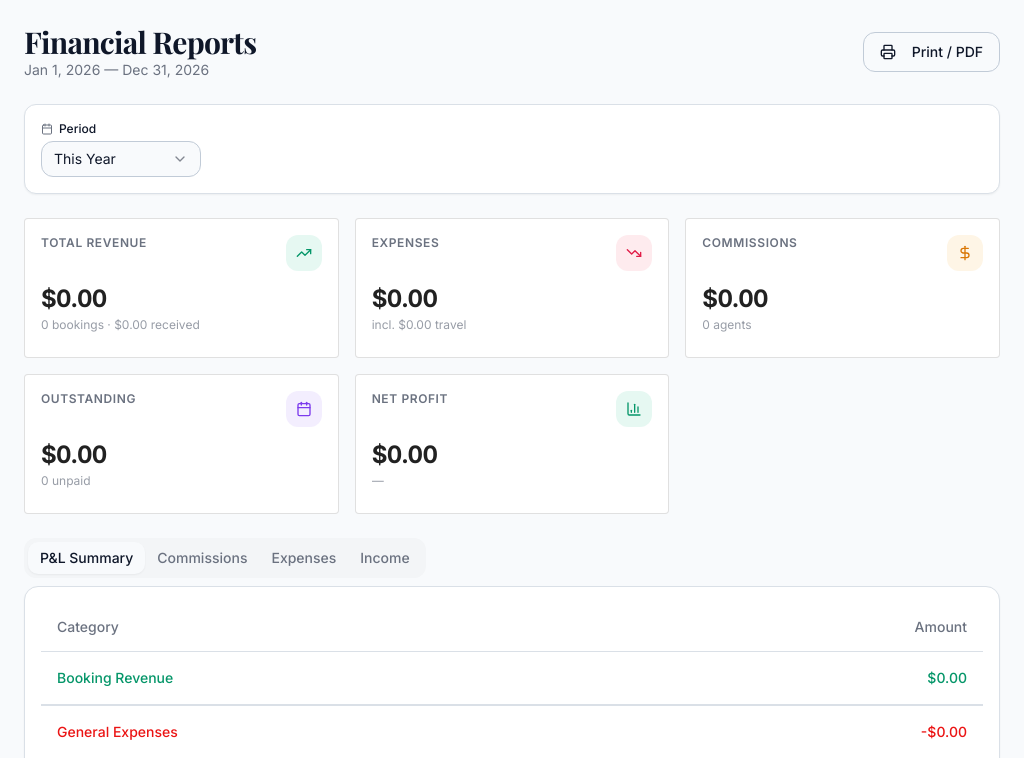
Test: Finance › adds a new general expense
The image size is (1024, 758).
Later steps or results of the test are not shown.
Expected: the text "Total Revenue" is shown, [41,235,147,251]
Press the mouse on the tab "Expenses" at (304, 558), box [259,542,348,574]
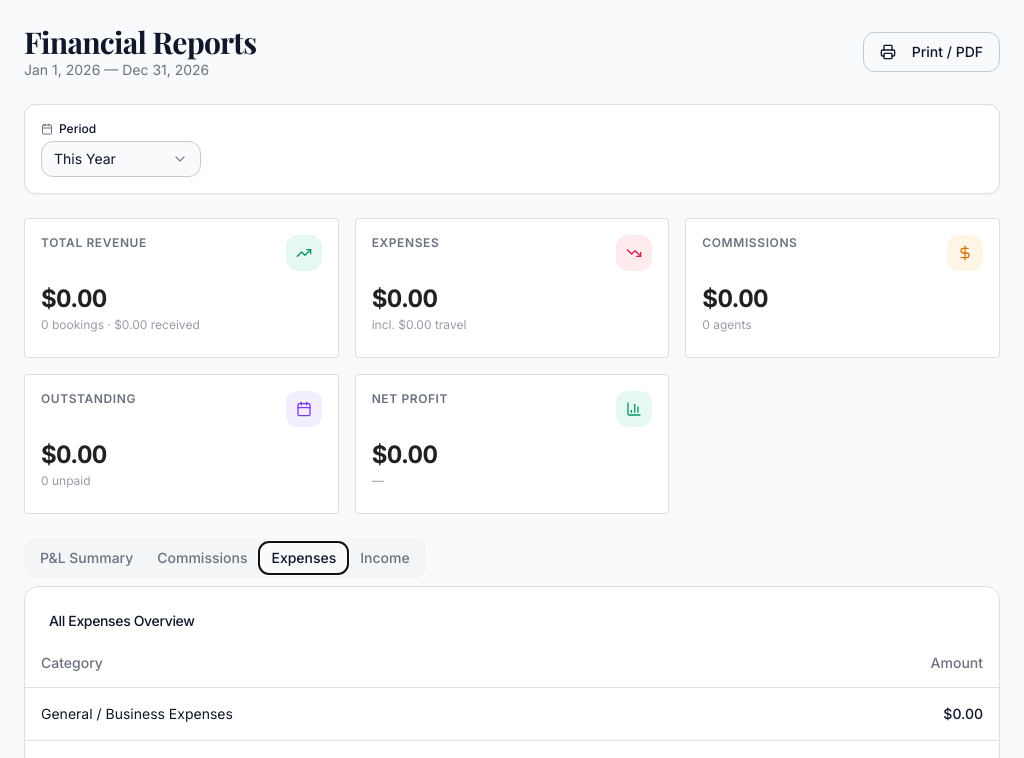
Click the tab "Expenses".
click(304, 558)  # box [259,542,348,574]
(page scrolled)
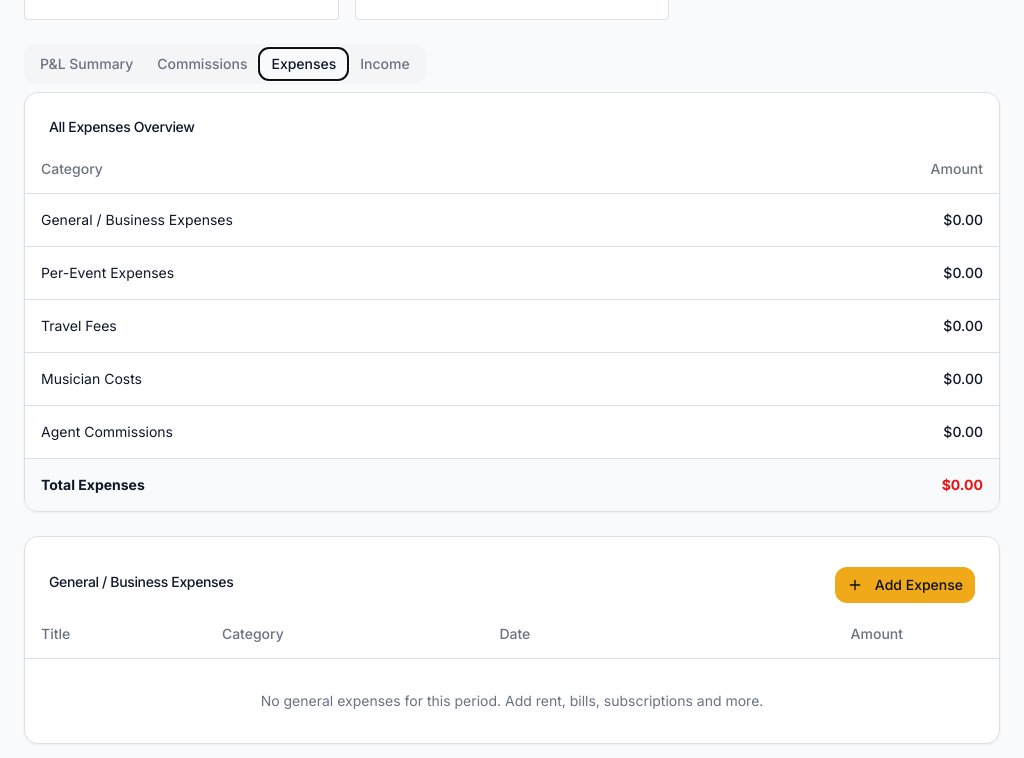
Now the text "No general expenses for this period" is shown, box [261,692,763,709]
